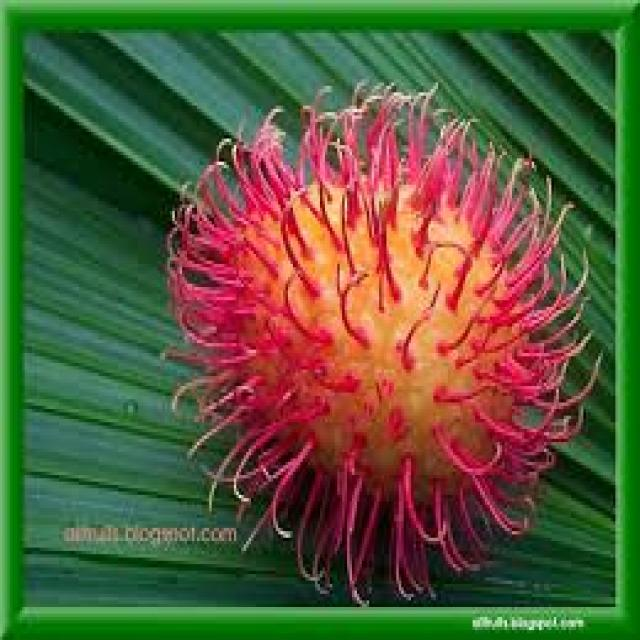organic waste: (163, 76, 603, 604)
